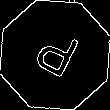P_SW: (27, 24, 83, 86)
